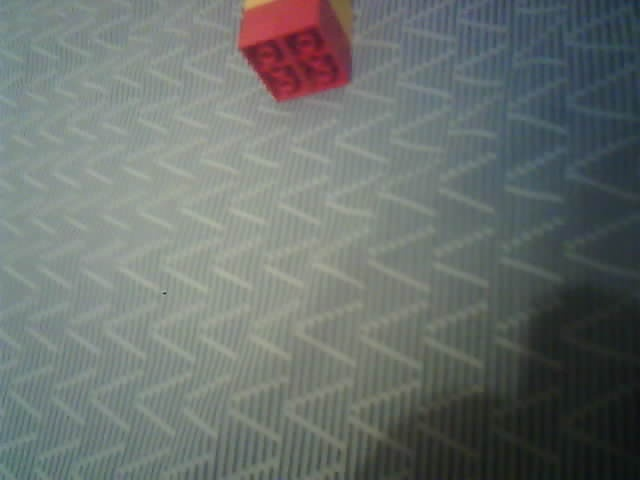lego: (236, 1, 354, 104)
